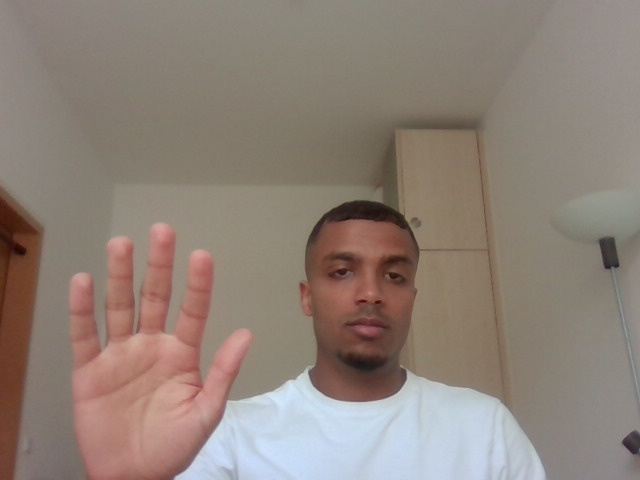never: (44, 208, 272, 480)
